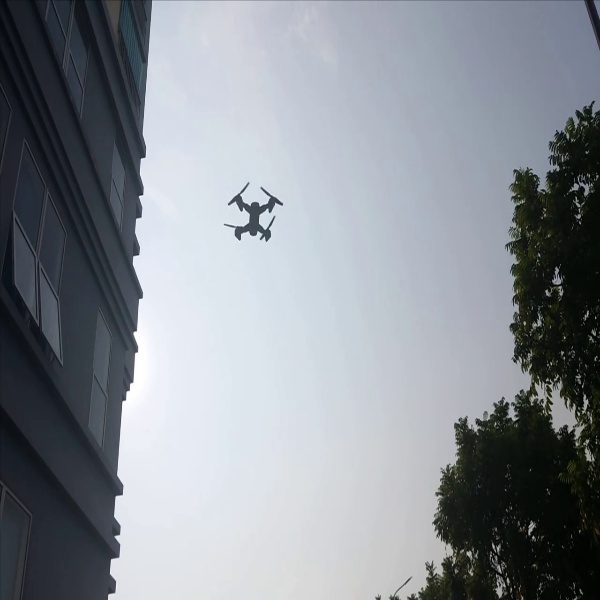drone: (211, 176, 294, 253)
